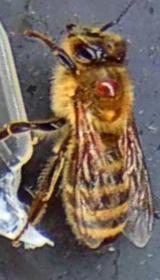varroa_mite: (79, 71, 133, 112)
